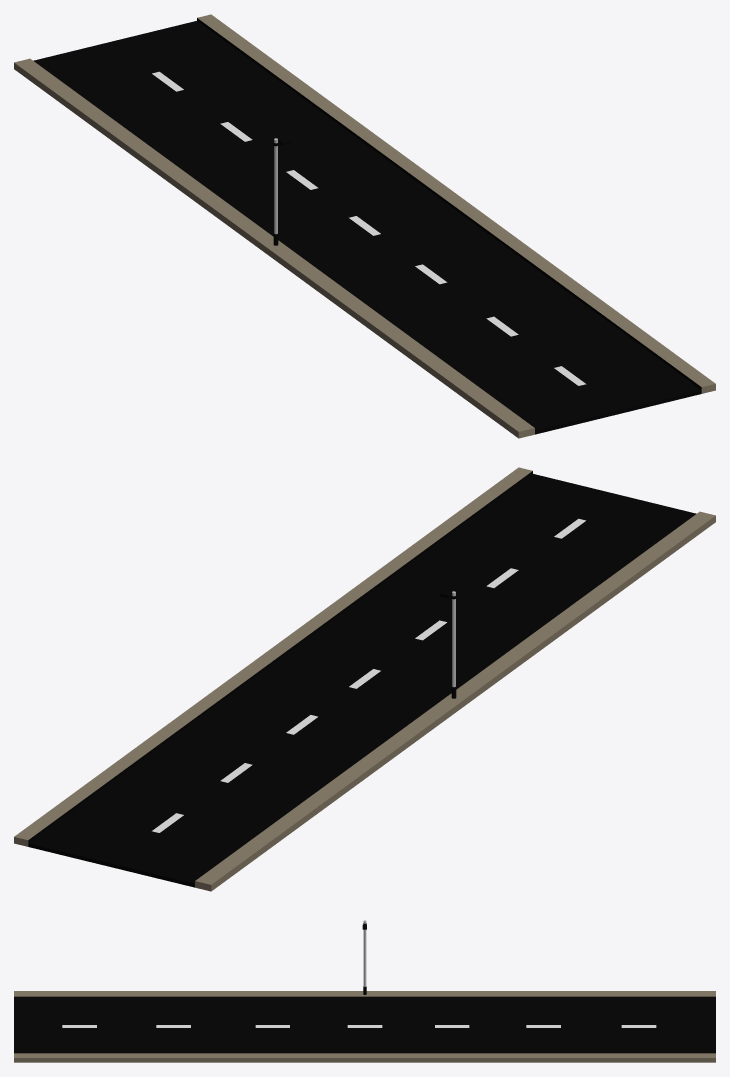
Rendered from road.fbx.
3 renders of one model, top to bottom at view 1: azimuth 30°, elevation 25°; view 2: azimuth 150°, elevation 25°; view 3: azimuth 270°, elevation 25°, orthographic. The views are drawn at different scales.
Parts seen in each view (by area): view 1: Cube; view 2: Cube; view 3: Cube, Cylinder.
Boxes of the visible parts, x1,y1,x2,y2 form: Cube: (14, 14, 715, 438); Cube: (14, 467, 715, 891); Cube: (14, 991, 715, 1062); Cylinder: (362, 920, 366, 994).
Size of the model in its own units: 2487 by 1354 by 11020.
